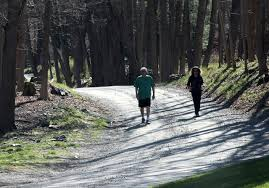Caution: (133, 65, 204, 125)
